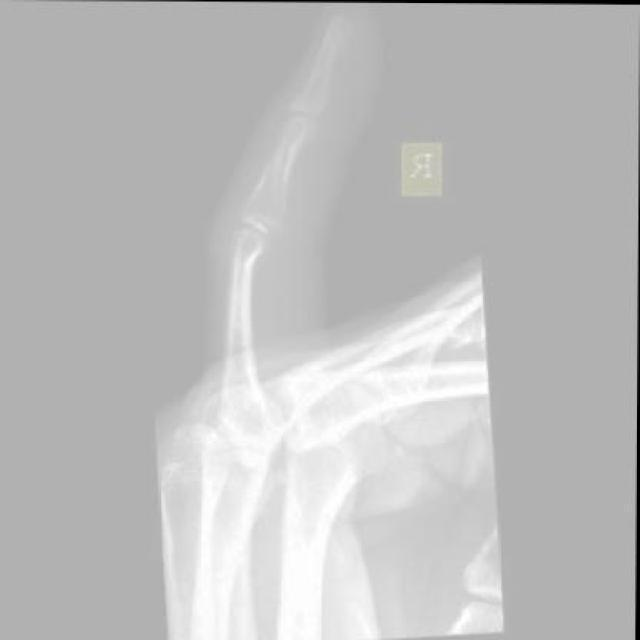Fracture: (260, 114, 321, 228)
